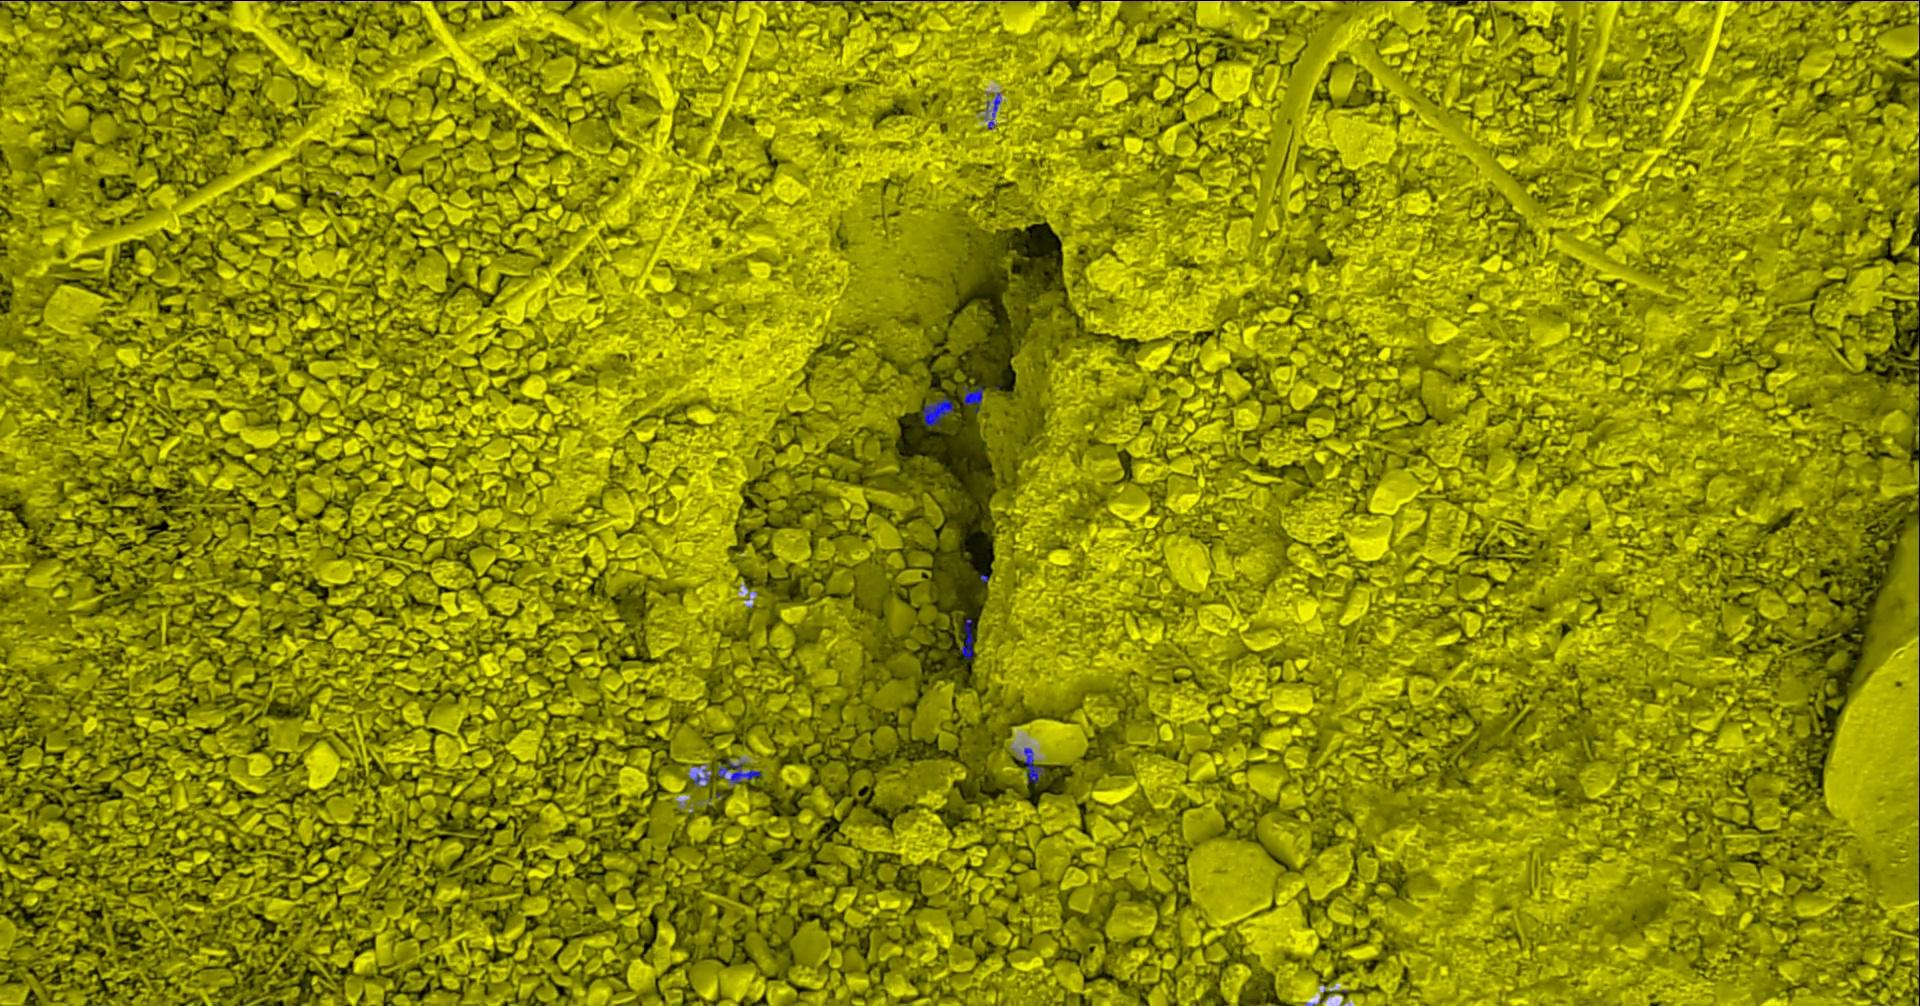ant: (717, 760, 762, 782), (924, 398, 955, 426), (1025, 747, 1046, 784), (963, 386, 985, 412), (988, 91, 1002, 130), (963, 619, 975, 658), (693, 768, 712, 785)
